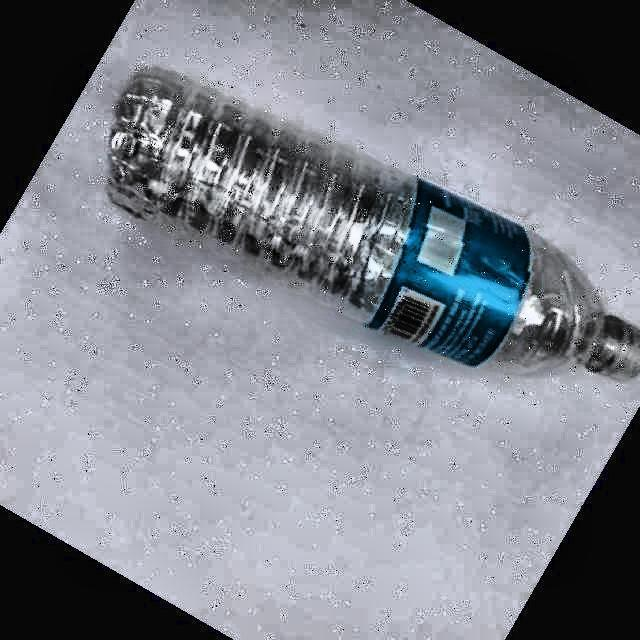plastic: (109, 69, 640, 381)
